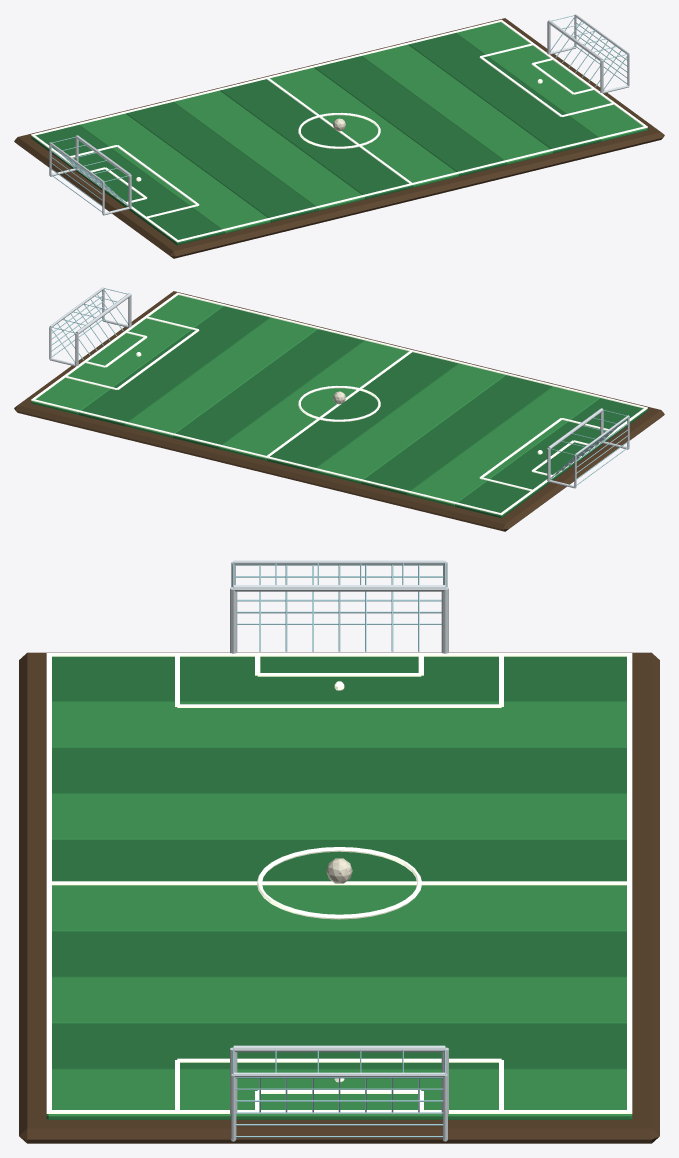
File: soccer-pitch-CKvzog4j.glb
The picture shows the model from 3 angles, top to bottom: view 1: azimuth 30°, elevation 25°; view 2: azimuth 150°, elevation 25°; view 3: azimuth 270°, elevation 25°; orthographic projection. The views are drawn at different scales.
Parts seen in each view (by area): view 1: Pitch_Soil_Base, Pitch_Stripe_3, Pitch_Stripe_7, Pitch_Stripe_2, Pitch_Stripe_6, Pitch_Stripe_4, Pitch_Stripe_8, Pitch_Stripe_1, Pitch_Stripe_9, Pitch_Stripe_5, Pitch_Stripe_0, Line_Bottom (+5 smaller); view 2: Pitch_Soil_Base, Pitch_Stripe_3, Pitch_Stripe_7, Pitch_Stripe_2, Pitch_Stripe_6, Pitch_Stripe_4, Pitch_Stripe_8, Pitch_Stripe_1, Pitch_Stripe_9, Pitch_Stripe_5, Pitch_Stripe_0, Line_Top (+5 smaller); view 3: Pitch_Soil_Base, Pitch_Stripe_2, Pitch_Stripe_3, Pitch_Stripe_6, Pitch_Stripe_7, Pitch_Stripe_5, Pitch_Stripe_1, Pitch_Stripe_0, Pitch_Stripe_8, Pitch_Stripe_4, Pitch_Stripe_9, Line_Center (+11 smaller).
Boxes of the visible parts, x1,y1,x2,y2 form: Pitch_Soil_Base: (14,18,664,258); Pitch_Stripe_3: (173,90,365,210); Pitch_Stripe_7: (361,44,553,164); Pitch_Stripe_2: (126,102,318,222); Pitch_Stripe_6: (314,56,506,176); Pitch_Stripe_4: (220,79,412,199); Pitch_Stripe_8: (408,33,600,153); Pitch_Stripe_1: (79,113,270,233); Pitch_Stripe_9: (455,22,647,141); Pitch_Stripe_5: (270,67,459,187); Pitch_Stripe_0: (31,125,223,245); Line_Bottom: (176,126,647,242); Pitch_Soil_Base: (14,291,664,531); Pitch_Stripe_3: (313,363,505,483); Pitch_Stripe_7: (125,317,317,437); Pitch_Stripe_2: (360,375,552,495); Pitch_Stripe_6: (172,329,364,449); Pitch_Stripe_4: (266,352,458,472); Pitch_Stripe_8: (78,306,270,426); Pitch_Stripe_1: (408,386,599,506); Pitch_Stripe_9: (31,295,223,414); Pitch_Stripe_5: (219,340,408,460); Pitch_Stripe_0: (455,398,647,518); Line_Top: (31,399,502,515); Pitch_Soil_Base: (19,652,659,1143); Pitch_Stripe_2: (52,747,626,793); Pitch_Stripe_3: (52,793,626,839); Pitch_Stripe_6: (52,931,626,977); Pitch_Stripe_7: (52,977,626,1023); Pitch_Stripe_5: (52,885,626,931); Pitch_Stripe_1: (52,701,626,747); Pitch_Stripe_0: (52,656,626,701); Pitch_Stripe_8: (52,1023,626,1069); Pitch_Stripe_4: (52,839,626,885); Pitch_Stripe_9: (46,1069,632,1119); Line_Center: (46,881,632,885).
Size of the model in its own units: 17.47 by 1.43 by 9.2.
